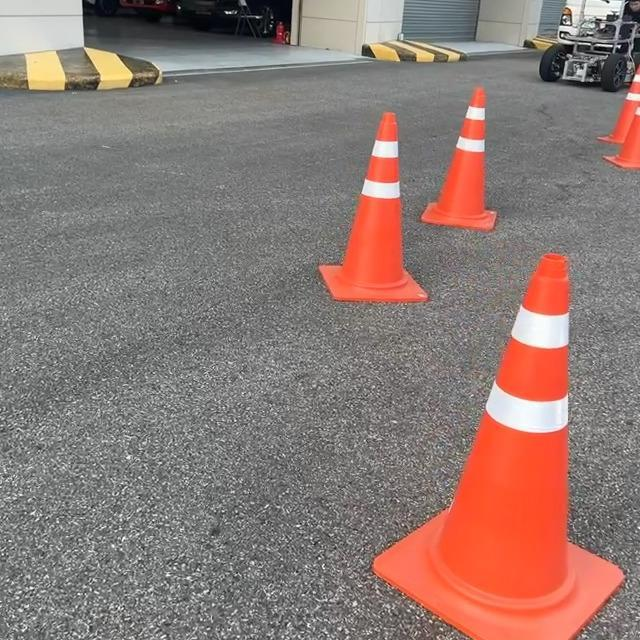fallen_object: (277, 243, 640, 640), (272, 89, 440, 322), (442, 90, 540, 291), (584, 53, 640, 179)
